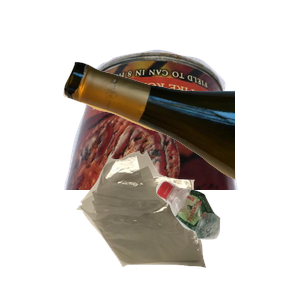glass: (60, 59, 300, 231)
metal: (62, 47, 300, 227)
plastic: (153, 178, 300, 300)
trash: (74, 148, 273, 300)
